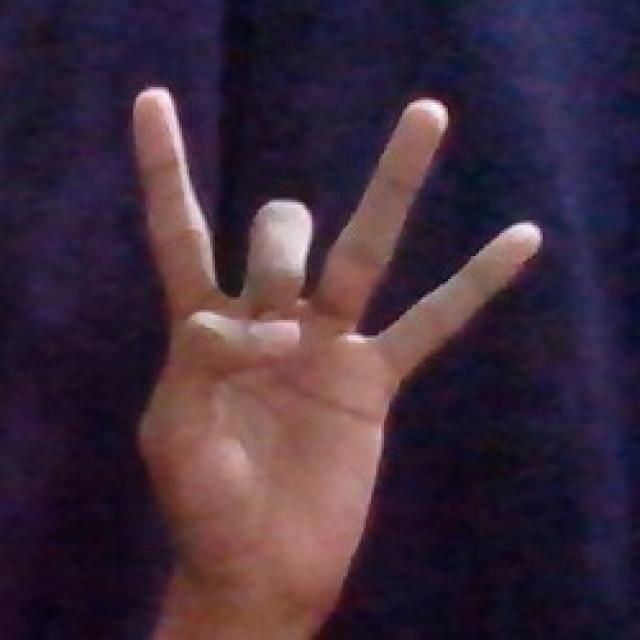Numeric-8: (120, 77, 554, 575)
